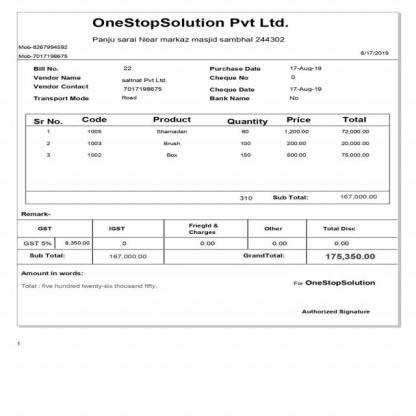Paragraph: (90, 16, 292, 44), (30, 64, 171, 104), (206, 64, 326, 104), (19, 269, 160, 291), (21, 224, 91, 247), (241, 252, 377, 262), (320, 224, 357, 247), (186, 222, 220, 247), (292, 278, 376, 288), (17, 44, 69, 59), (262, 226, 289, 248), (300, 308, 372, 316), (107, 226, 128, 247), (108, 253, 148, 261), (28, 252, 67, 260), (19, 210, 52, 218), (359, 50, 390, 56)
Table: (26, 113, 390, 204)
